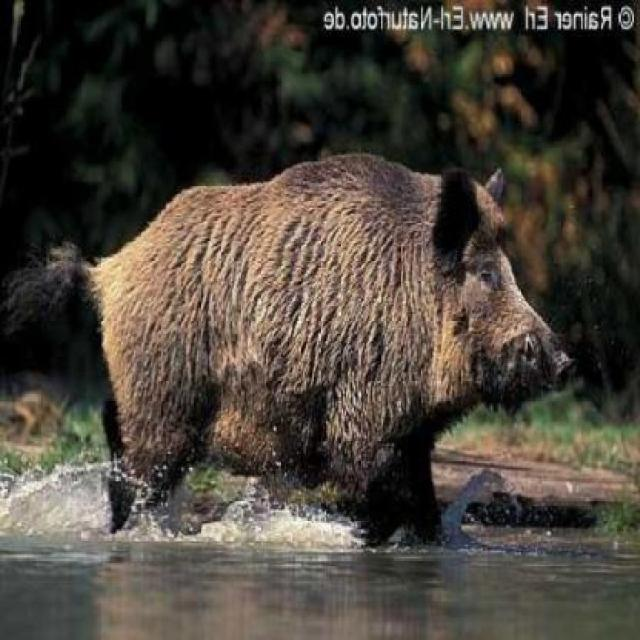Boar: (14, 90, 572, 564)
